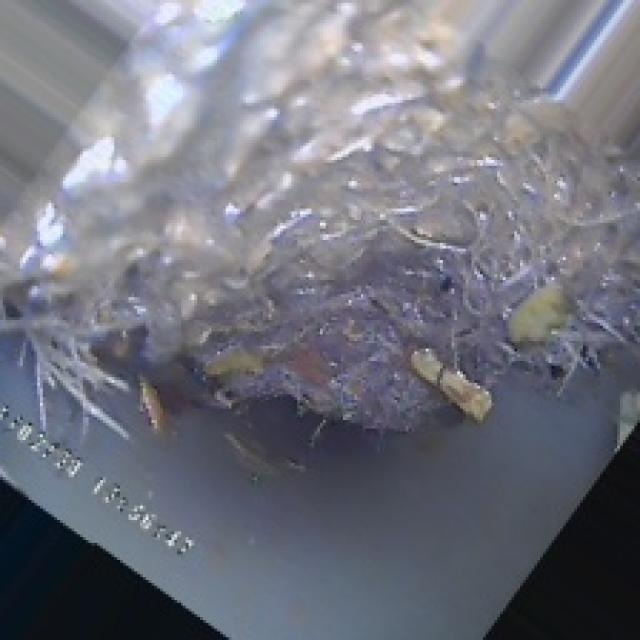sluge accumulation: (91, 40, 586, 446)
